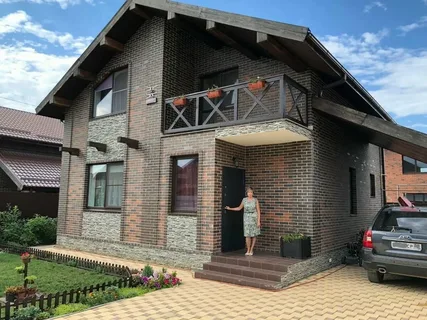private_hause: (55, 29, 352, 261)
